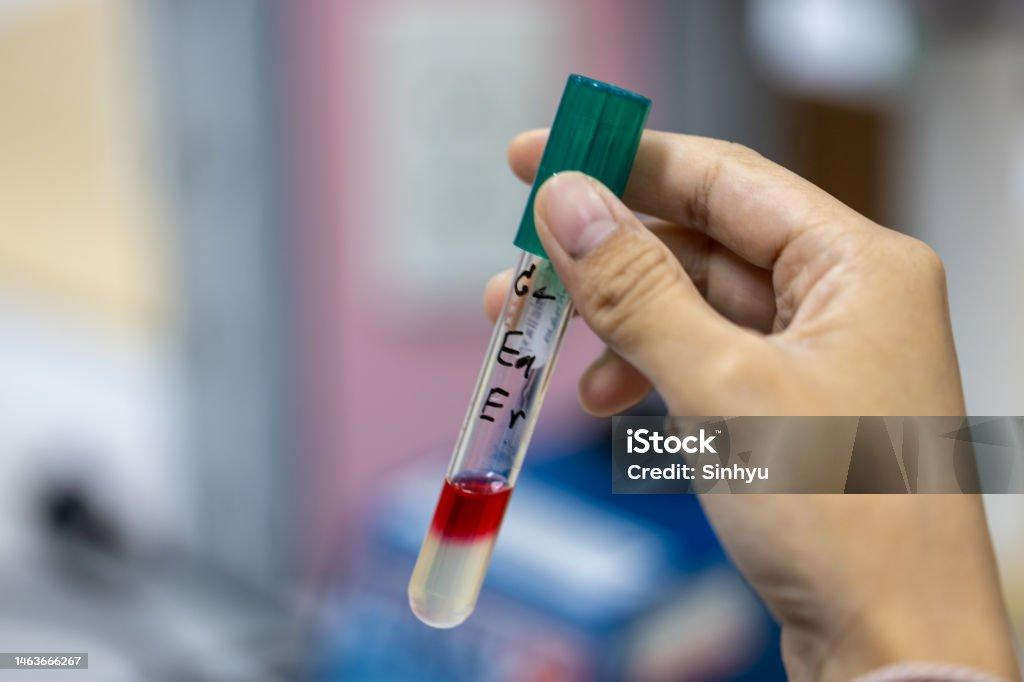Test tube: (400, 15, 663, 661)
